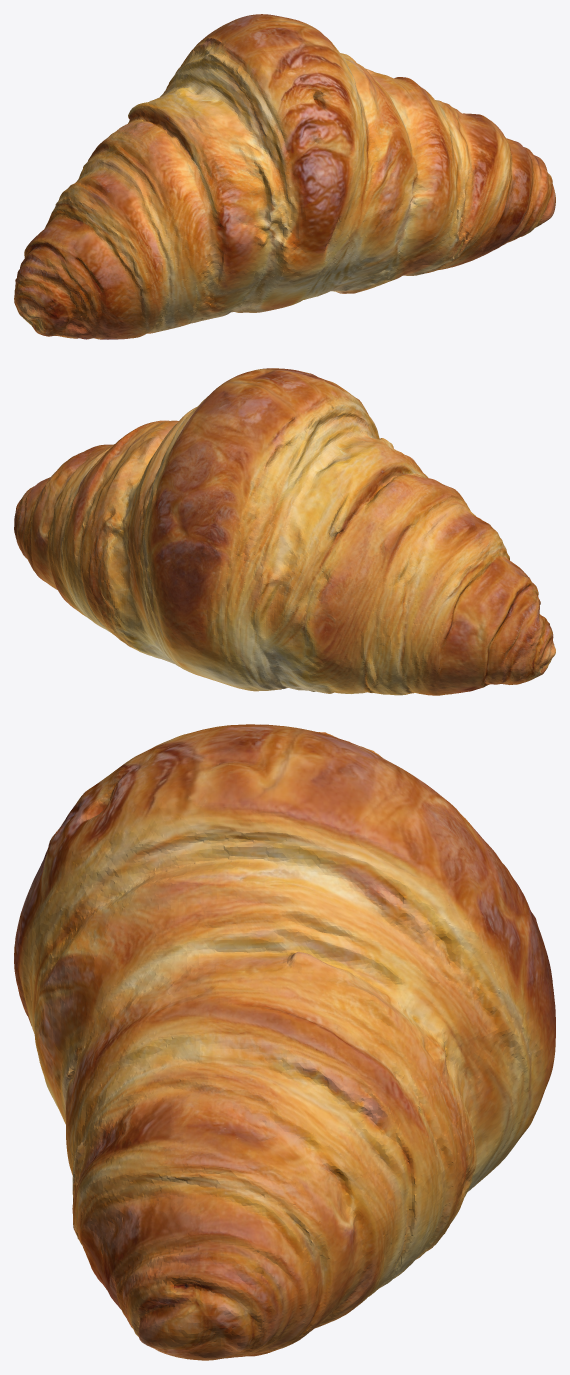
The model's file is Buttery_croissant_go_0329204612_texture.fbx.
The picture shows the model from 3 angles, top to bottom: view 1: azimuth 30°, elevation 25°; view 2: azimuth 150°, elevation 25°; view 3: azimuth 270°, elevation 25°; orthographic projection. The views are drawn at different scales.
Visible parts, largest first — view 1: temp; view 2: temp; view 3: temp.
Part boxes in pixels (x1,y1,x2,y2): temp: (14,14,555,339); temp: (14,368,555,695); temp: (14,724,555,1360).
Bounding box in the file's own units: 199 × 98.92 × 102.
1 material, 1 textured.
